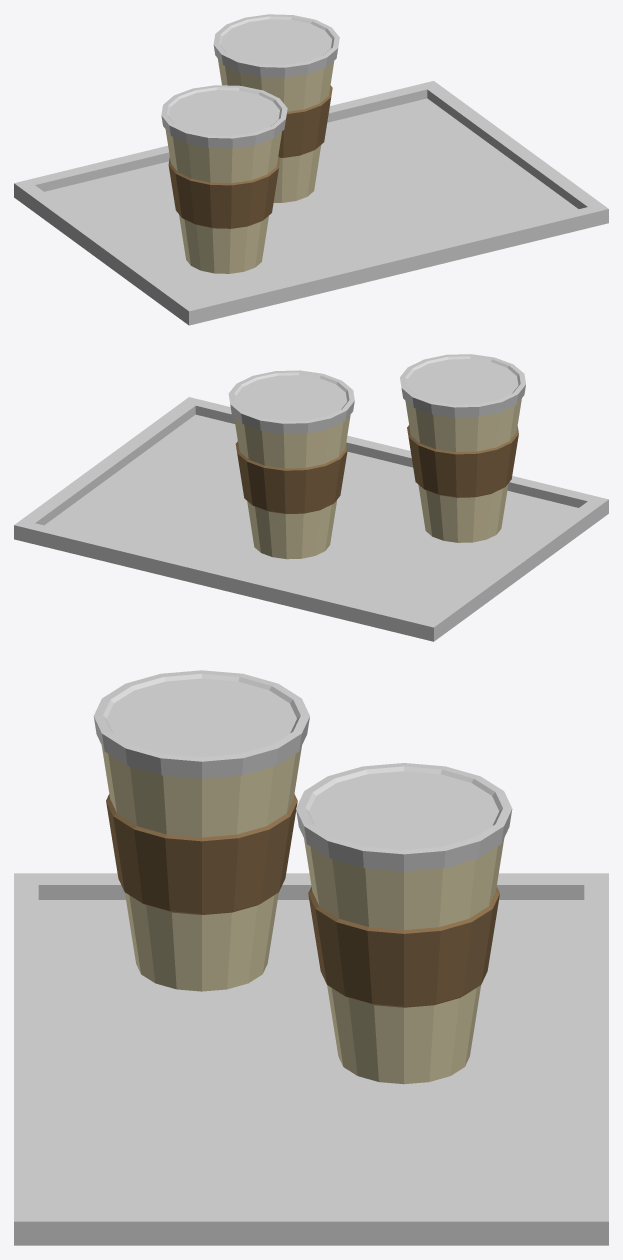
Rendered from Cafe tray.fbx.
3 views of the same model, one above another, from view 1: azimuth 30°, elevation 25°; view 2: azimuth 150°, elevation 25°; view 3: azimuth 270°, elevation 25° (orthographic). The views are drawn at different scales.
Visible parts, largest first — view 1: Tray; view 2: Tray; view 3: Tray.
Boxes of the visible parts, x1=… form: Tray: x1=14, y1=14, x2=608, y2=325; Tray: x1=14, y1=354, x2=608, y2=641; Tray: x1=14, y1=670, x2=608, y2=1245.
Size of the model in its own units: 43.62 by 15.03 by 31.51.
